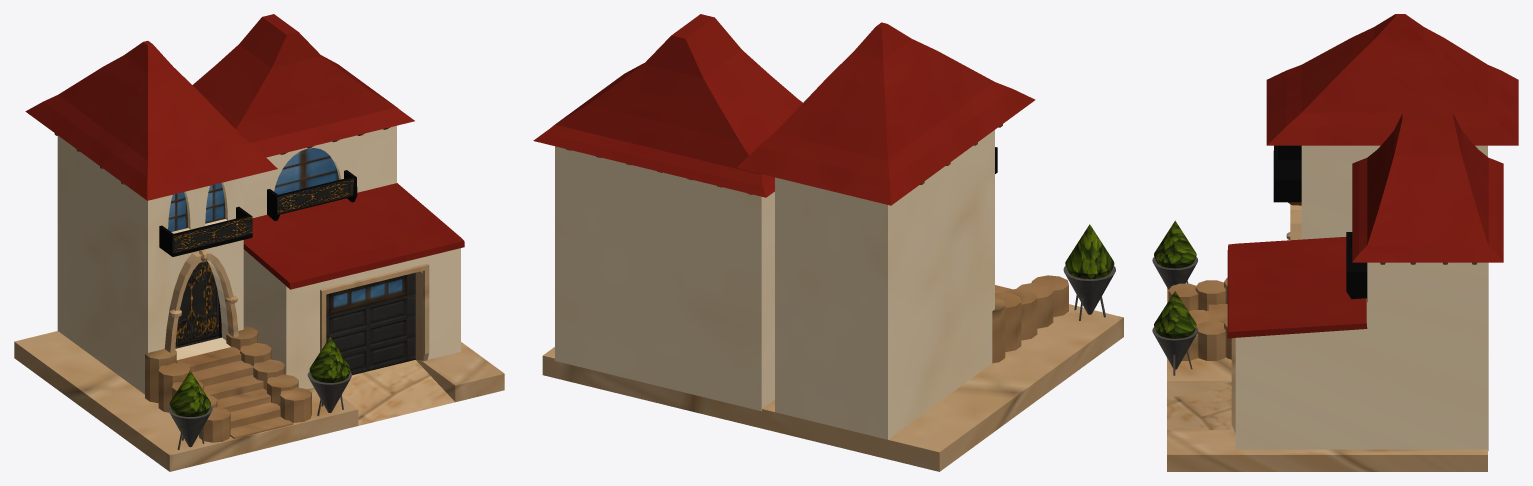
File: villa lüks.fbx
3 renders of one model, left to right at view 1: azimuth 30°, elevation 25°; view 2: azimuth 150°, elevation 25°; view 3: azimuth 270°, elevation 25°, orthographic. The views are drawn at different scales.
Visible parts, largest first — view 1: Cube.019; view 2: Cube.019; view 3: Cube.019.
Boxes of the visible parts, box(x1,y1,x2,y2) form: Cube.019: box(14, 14, 504, 471); Cube.019: box(533, 14, 1123, 471); Cube.019: box(1152, 14, 1518, 471).
Size of the model in its own units: 1253 by 1155 by 1148.
1 material, 1 textured.
